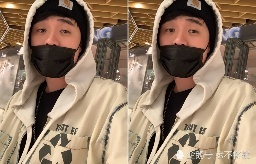incorrectlyWear: (153, 13, 216, 77), (27, 13, 83, 77)
